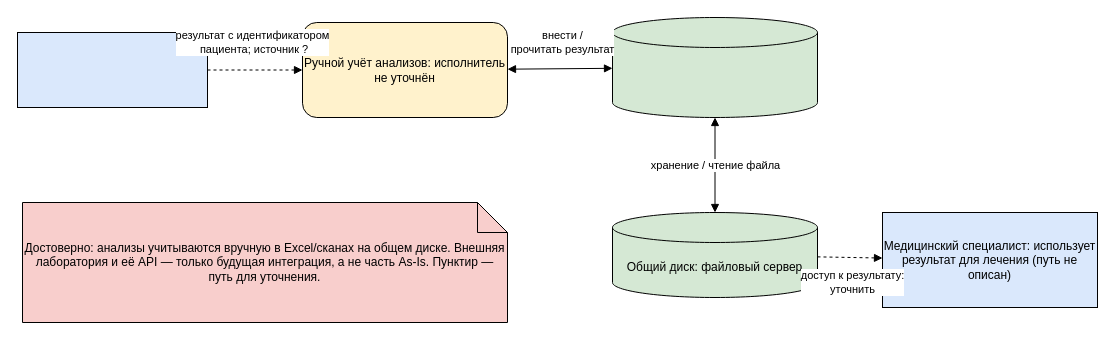
Image size: 1115x340. Some labels were removed from this diagram. Each missing label, with the centre of its shape:
"Журнал / результаты анализов: Excel или сканы" belongs at [715,67].
"Источник результата анализа: в кейсе не указан" belongs at [112,70].
